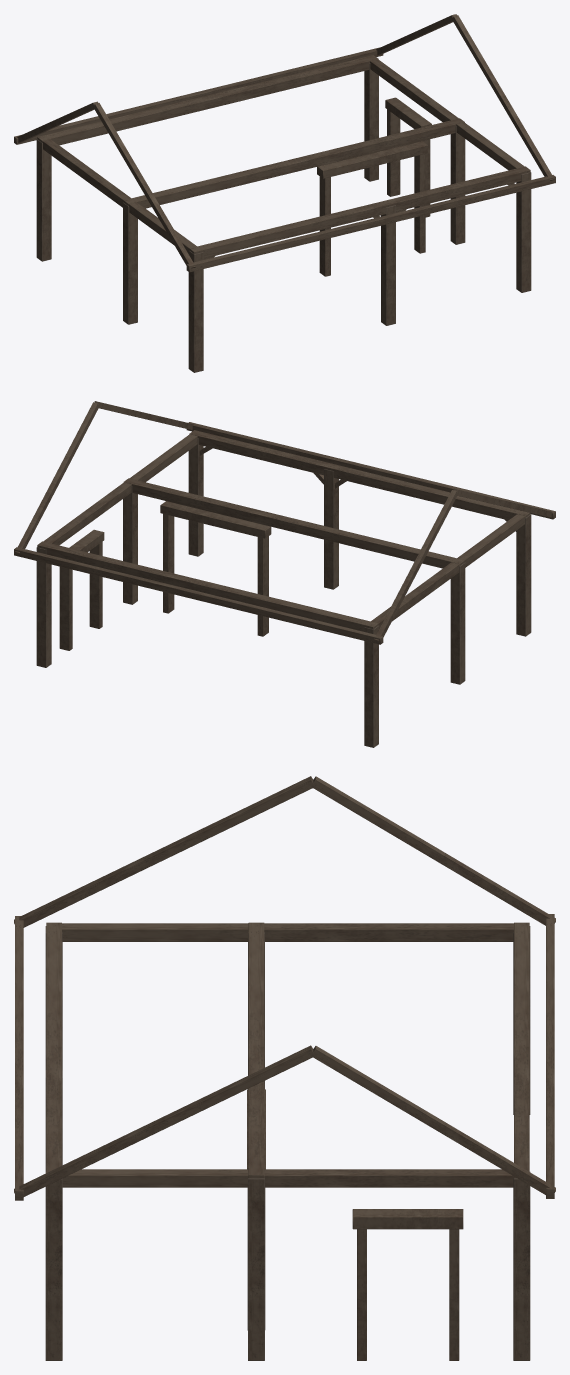
The model's file is BW_Blacksmith01_Timber.fbx.
3 renders of one model, top to bottom at view 1: azimuth 30°, elevation 25°; view 2: azimuth 150°, elevation 25°; view 3: azimuth 270°, elevation 25°, orthographic. The views are drawn at different scales.
Visible parts, largest first — view 1: BW_Blacksmith01_Timber; view 2: BW_Blacksmith01_Timber; view 3: BW_Blacksmith01_Timber.
Boxes of the visible parts, box(x1,y1,x2,y2) form: BW_Blacksmith01_Timber: box(14, 14, 555, 372); BW_Blacksmith01_Timber: box(14, 401, 555, 747); BW_Blacksmith01_Timber: box(14, 776, 555, 1360).
Bounding box in the file's own units: 10.3 × 5.62 × 8.57.
